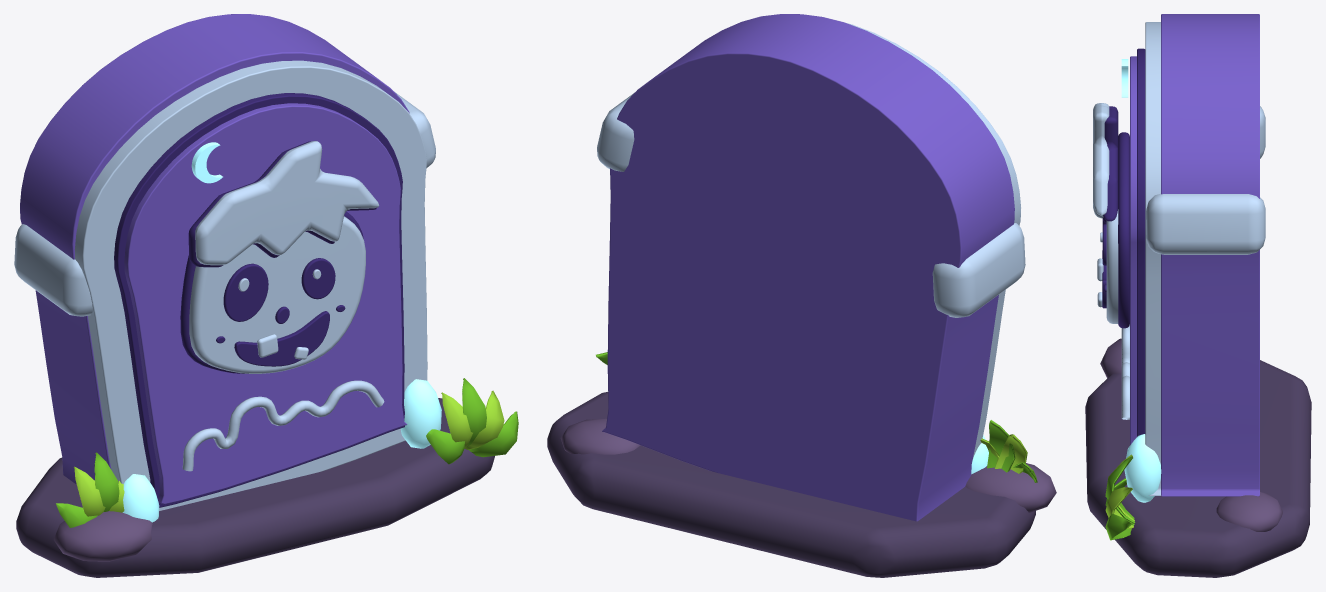
The model's file is Grave_Lunar.glb.
3 renders of one model, left to right at view 1: azimuth 30°, elevation 25°; view 2: azimuth 150°, elevation 25°; view 3: azimuth 270°, elevation 25°, orthographic. The views are drawn at different scales.
Visible parts, largest first — view 1: Headstone / soft inset.004, Headstone / pudgy asymmetrical body.004, Headstone / single thick rounded rim.004, Base / single soft rock.004, Face / round squishy cheeks.004, Face / floppy rounded fringe.004, Headstone / warm panel shadow.004, Shoulder / rounded tab.008, Base / little stone.008, Ornament / little puffy cloud.004, Face / happy crooked open smile.004, Lunar / rounded little crystal.001 (+14 smaller); view 2: Headstone / pudgy asymmetrical body.004, Base / single soft rock.004, Shoulder / rounded tab.008, Base / little stone.008, Headstone / single thick rounded rim.004, Base / little stone.009, Shoulder / rounded tab.009, Grass / fat curved blade.042; view 3: Headstone / pudgy asymmetrical body.004, Base / single soft rock.004, Shoulder / rounded tab.009, Headstone / single thick rounded rim.004, Headstone / warm panel shadow.004, Headstone / soft inset.004, Face / shallow outline.004, Base / little stone.009, Lunar / rounded little crystal.001, Face / floppy rounded fringe.004, Face / floppy fringe shadow.004, Face / round squishy cheeks.004 (+6 smaller).
Part boxes in pixels (box(x1,y1,x2,y2)): Headstone / soft inset.004: box(124, 103, 407, 504); Headstone / pudgy asymmetrical body.004: box(20, 14, 409, 484); Headstone / single thick rounded rim.004: box(74, 60, 427, 510); Base / single soft rock.004: box(16, 398, 494, 577); Face / round squishy cheeks.004: box(189, 216, 365, 373); Face / floppy rounded fringe.004: box(195, 141, 379, 265); Headstone / warm panel shadow.004: box(114, 93, 404, 507); Shoulder / rounded tab.008: box(14, 224, 92, 316); Base / little stone.008: box(53, 511, 152, 561); Ornament / little puffy cloud.004: box(182, 380, 384, 471); Face / happy crooked open smile.004: box(234, 311, 329, 366); Lunar / rounded little crystal.001: box(400, 379, 441, 448); Headstone / pudgy asymmetrical body.004: box(602, 14, 1014, 521); Base / single soft rock.004: box(547, 392, 1035, 577); Shoulder / rounded tab.008: box(932, 223, 1025, 317); Base / little stone.008: box(965, 463, 1056, 512); Headstone / single thick rounded rim.004: box(846, 23, 1020, 459); Base / little stone.009: box(560, 418, 640, 454); Shoulder / rounded tab.009: box(597, 92, 634, 171); Grass / fat curved blade.042: box(987, 420, 1015, 472); Headstone / pudgy asymmetrical body.004: box(1161, 14, 1259, 496); Base / single soft rock.004: box(1085, 360, 1311, 577); Shoulder / rounded tab.009: box(1146, 193, 1265, 254); Headstone / single thick rounded rim.004: box(1145, 22, 1161, 495); Headstone / warm panel shadow.004: box(1137, 48, 1145, 436); Headstone / soft inset.004: box(1130, 56, 1136, 445); Face / shallow outline.004: box(1118, 132, 1129, 328); Base / little stone.009: box(1216, 492, 1282, 531); Lunar / rounded little crystal.001: box(1124, 434, 1161, 502); Face / floppy rounded fringe.004: box(1093, 103, 1109, 218); Face / floppy fringe shadow.004: box(1102, 106, 1118, 222); Face / round squishy cheeks.004: box(1106, 209, 1118, 323).
Size of the model in its own units: 2.65 by 2.63 by 1.23.
